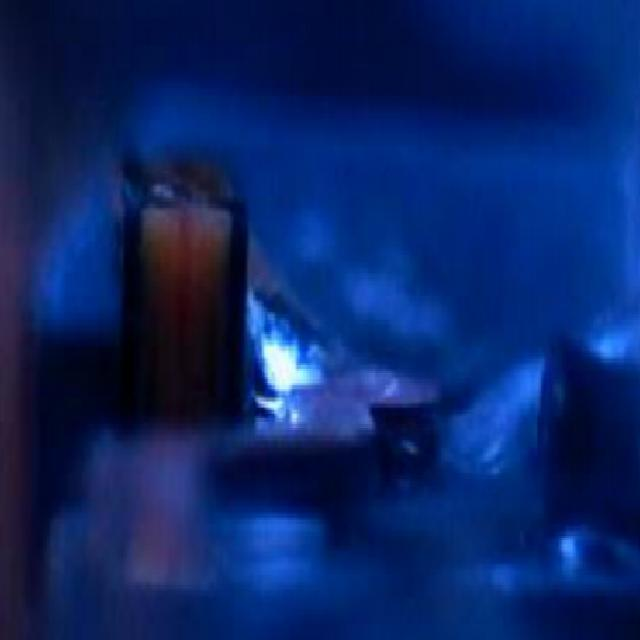Good: (236, 212, 370, 436)
